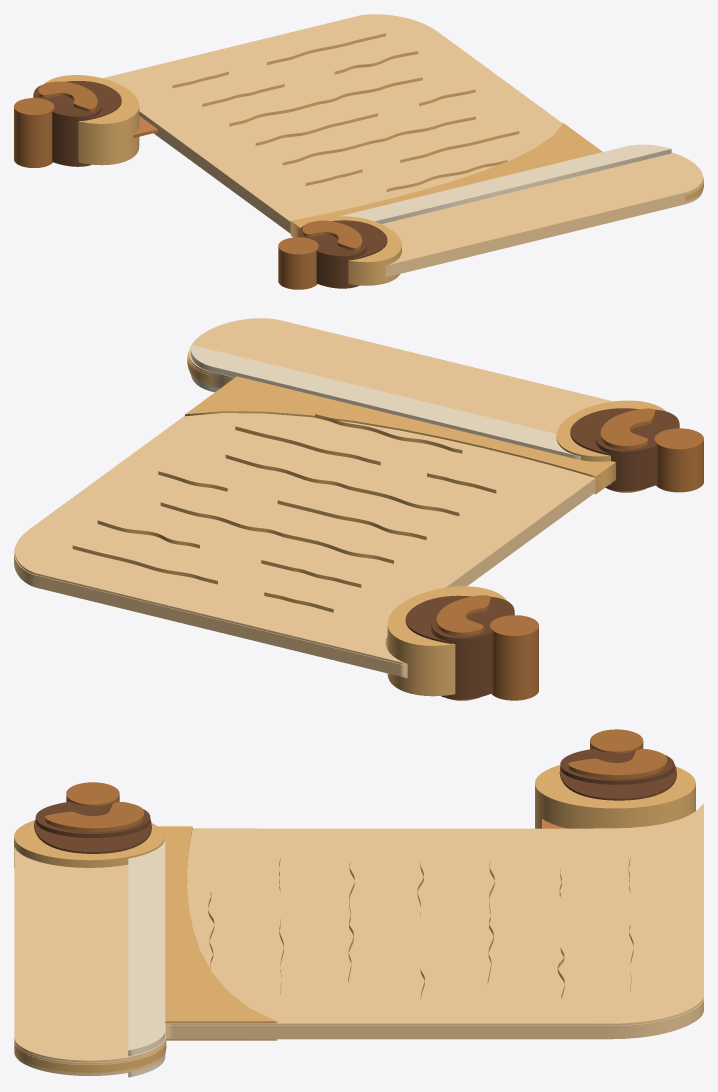
File: emoji_u1f4dc.glb
The picture shows the model from 3 angles, top to bottom: view 1: azimuth 30°, elevation 25°; view 2: azimuth 150°, elevation 25°; view 3: azimuth 270°, elevation 25°; orthographic projection. The views are drawn at different scales.
Visible parts, largest first — view 1: emoji_u1f4dc; view 2: emoji_u1f4dc; view 3: emoji_u1f4dc.
Part boxes in pixels (x1,y1,x2,y2): emoji_u1f4dc: (14, 14, 703, 289); emoji_u1f4dc: (14, 318, 703, 700); emoji_u1f4dc: (14, 729, 703, 1077).
Bounding box in the file's own units: 0.0339 × 0.0038 × 0.0324.
